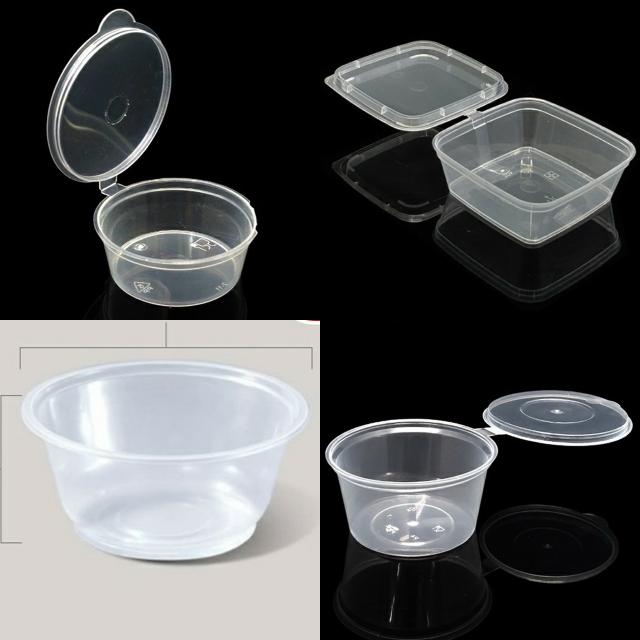Single-Use-Plastic: (22, 361, 308, 560), (432, 98, 635, 244), (326, 420, 498, 558), (48, 9, 171, 185), (94, 179, 256, 307), (325, 41, 508, 131), (484, 391, 632, 445)
